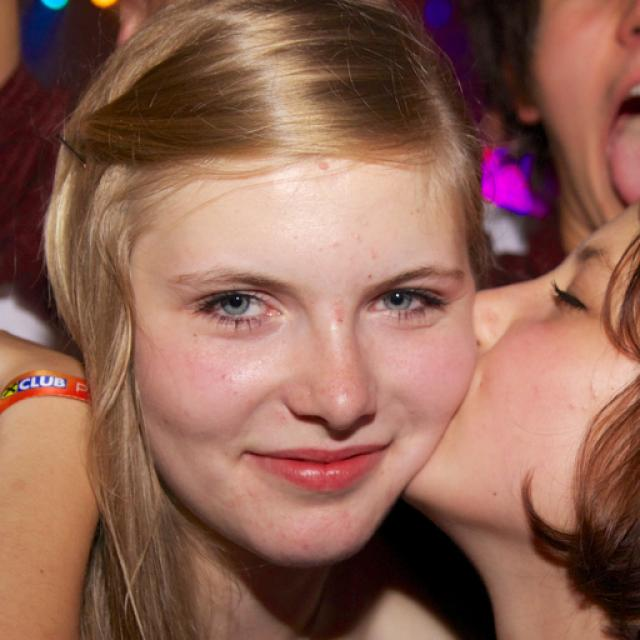Acne: (313, 161, 332, 175)
